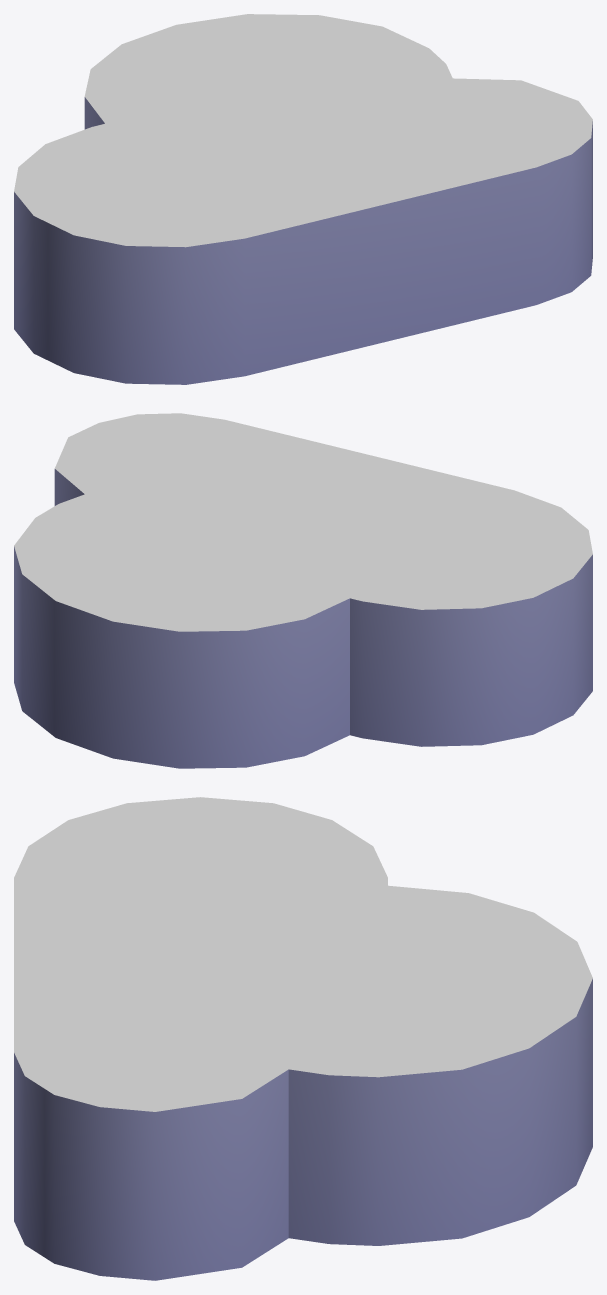
Rendered from shape-cloud.glb.
3 views of the same model, one above another, from view 1: azimuth 30°, elevation 25°; view 2: azimuth 150°, elevation 25°; view 3: azimuth 270°, elevation 25° (orthographic). The views are drawn at different scales.
Parts seen in each view (by area): view 1: shape-cloud; view 2: shape-cloud; view 3: shape-cloud.
Boxes of the visible parts, x1,y1,x2,y2 form: shape-cloud: (14, 14, 592, 384); shape-cloud: (14, 413, 592, 768); shape-cloud: (14, 797, 592, 1280).
Size of the model in its own units: 0.25 by 0.0625 by 0.1943.
